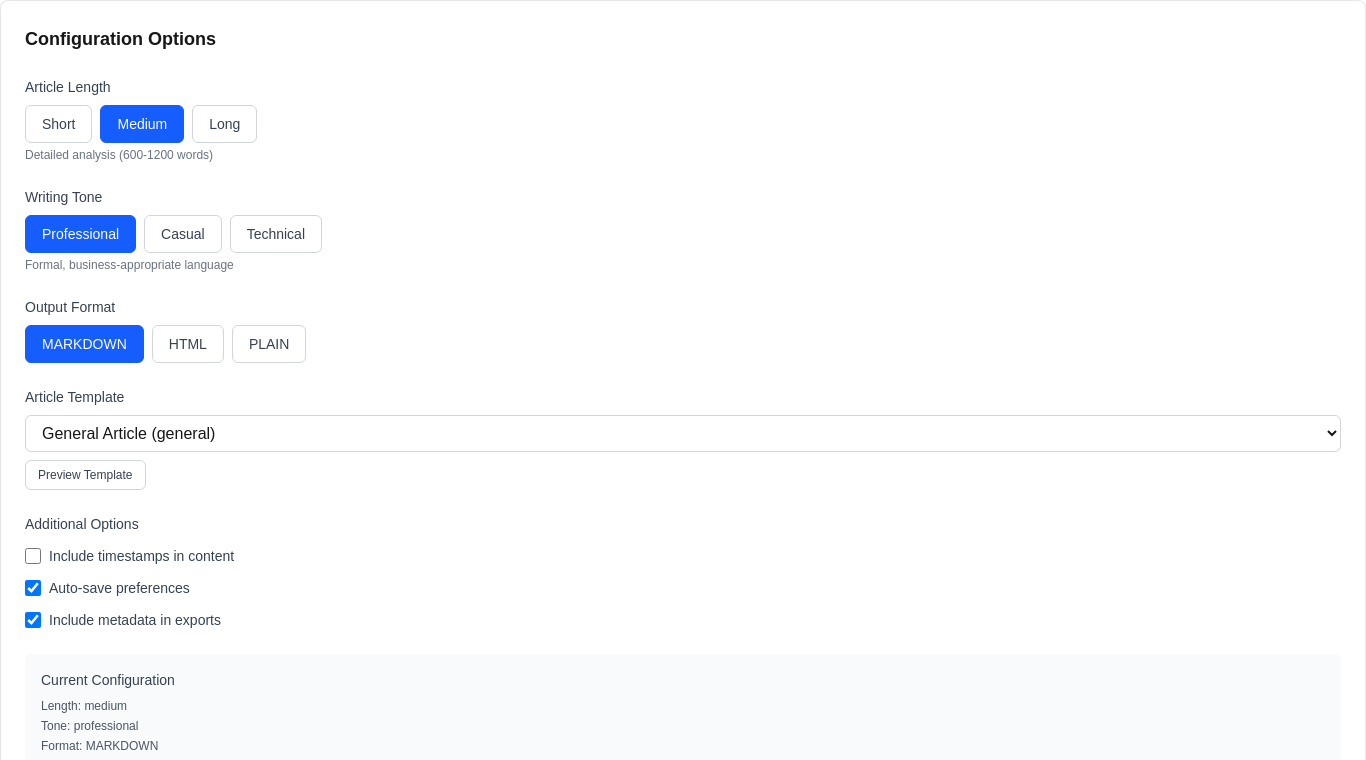
Test: ConfigurationOptions › should show template preview when preview button is clicked
The width and height of the screenshot is (1366, 760).
What coordinates should you click on to do the following:
click the button "Preview Template"
I would click on:
 (85, 475)
Its box is [25,460,146,490].
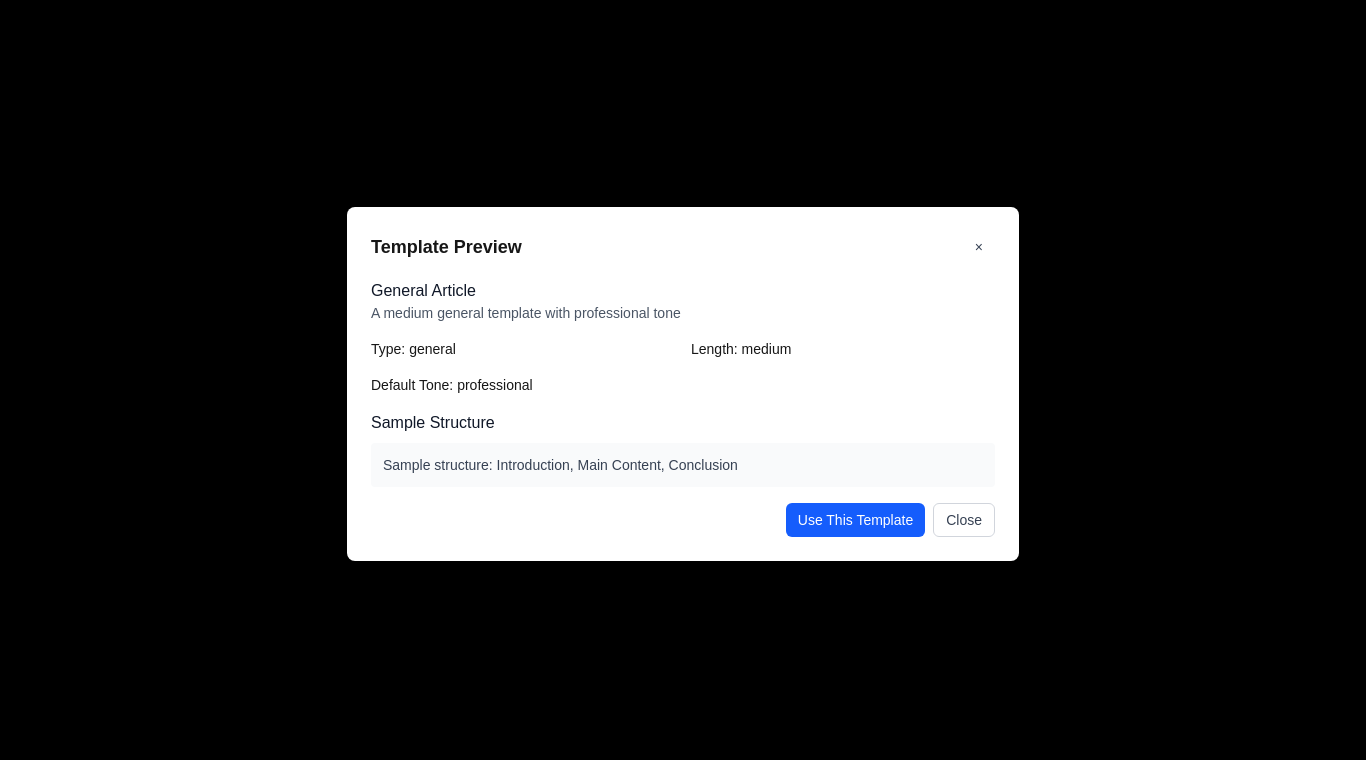
Check: the heading "Template Preview" is shown, box [371,233,522,261]
